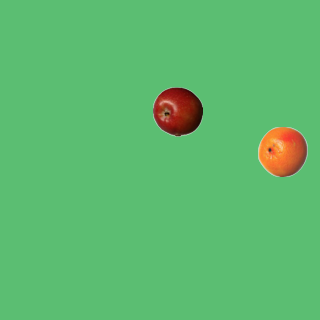Apple Braeburn: (152, 86, 202, 136)
Grapefruit Pink: (257, 126, 307, 176)
